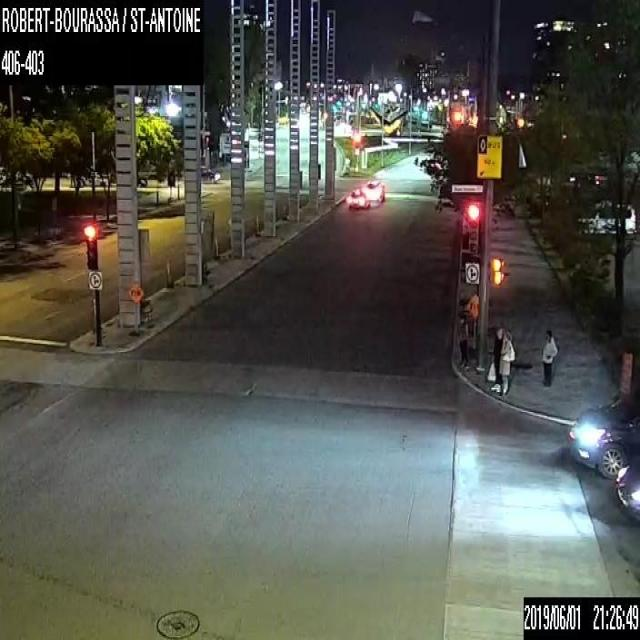construction: (137, 228, 153, 322), (200, 209, 213, 280), (466, 292, 479, 357), (128, 282, 143, 336), (618, 348, 631, 395)
pedestrian: (499, 331, 515, 397), (540, 328, 558, 385), (487, 325, 502, 391), (458, 312, 471, 363)
vehicle: (566, 389, 639, 478), (576, 198, 636, 236), (614, 455, 639, 523), (347, 188, 370, 208), (365, 179, 386, 199), (201, 167, 220, 181)
